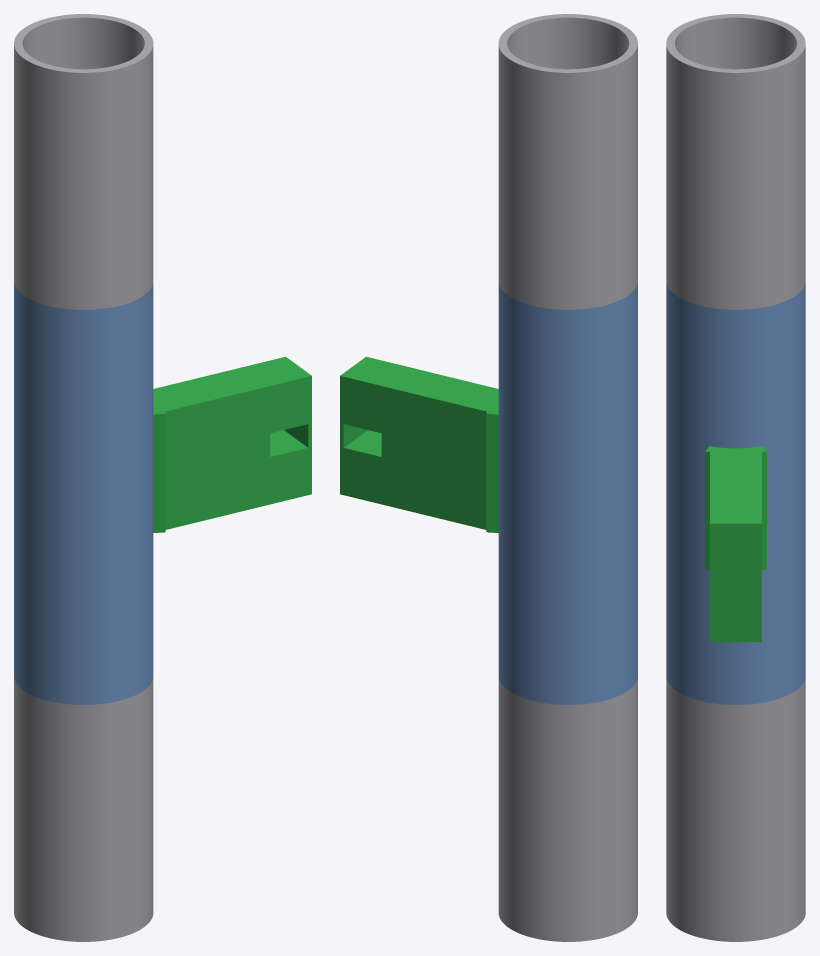
3 views of the same model, side by side, from view 1: azimuth 30°, elevation 25°; view 2: azimuth 150°, elevation 25°; view 3: azimuth 270°, elevation 25° (orthographic).
Visible parts, largest first — view 1: joint_tube, pipe_a, pipe_b, bracket; view 2: joint_tube, pipe_a, pipe_b, bracket; view 3: joint_tube, pipe_a, pipe_b, bracket.
Boxes of the visible parts, x1,y1,x2,y2 form: joint_tube: (14,282,153,704); pipe_a: (14,14,153,309); pipe_b: (14,677,153,941); bracket: (153,356,311,532); joint_tube: (498,282,637,704); pipe_a: (498,14,637,309); pipe_b: (498,677,637,941); bracket: (340,356,498,532); joint_tube: (666,283,805,704); pipe_a: (666,14,805,309); pipe_b: (666,678,805,941); bracket: (705,446,766,642).
Bounding box in the file's own units: 73 × 220 × 31.99.
